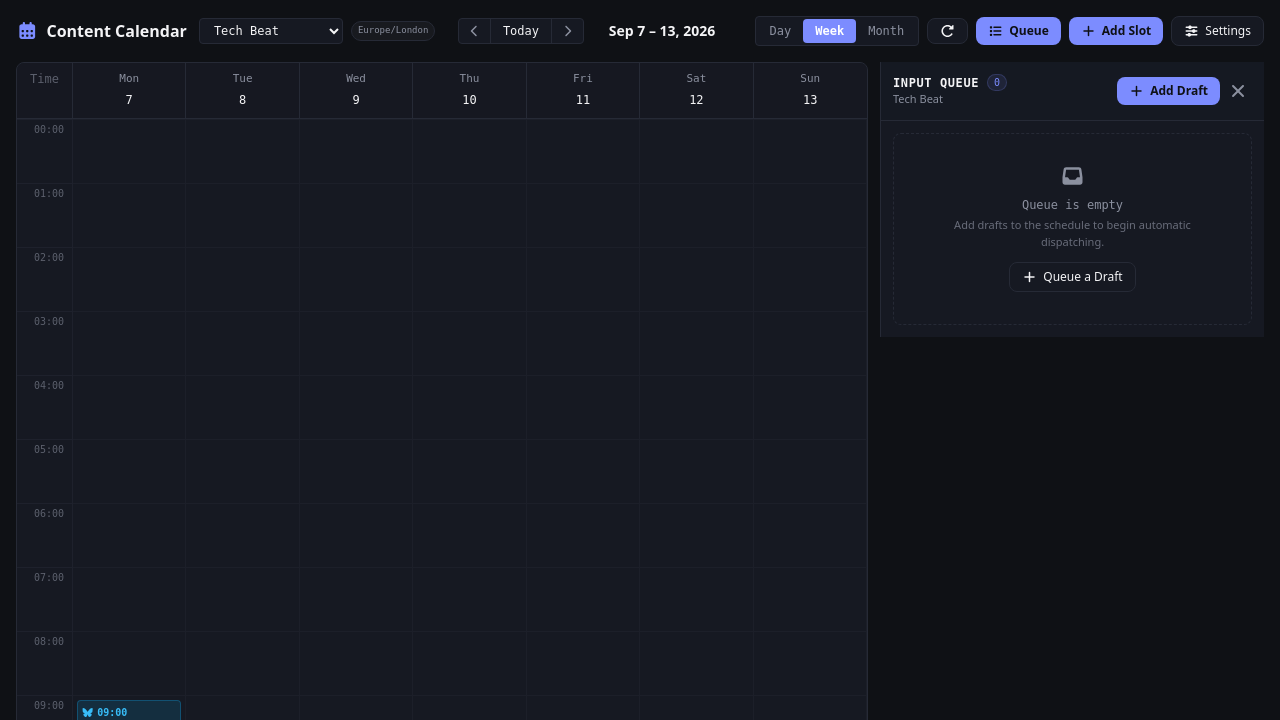
Test: CalendarPage › clicking toolbar Add Slot button opens SlotRuleFormModal
Check: the button with test id "open-schedule-manager-btn" reads "Settings", box [1171,16,1264,46]
Check: the dropdown with test id "schedule-selector" shows "Tech Beat", box [199,18,343,44]
Click the button with test id "toolbar-add-slot-btn" at (1116, 31), box [1069,17,1163,45]
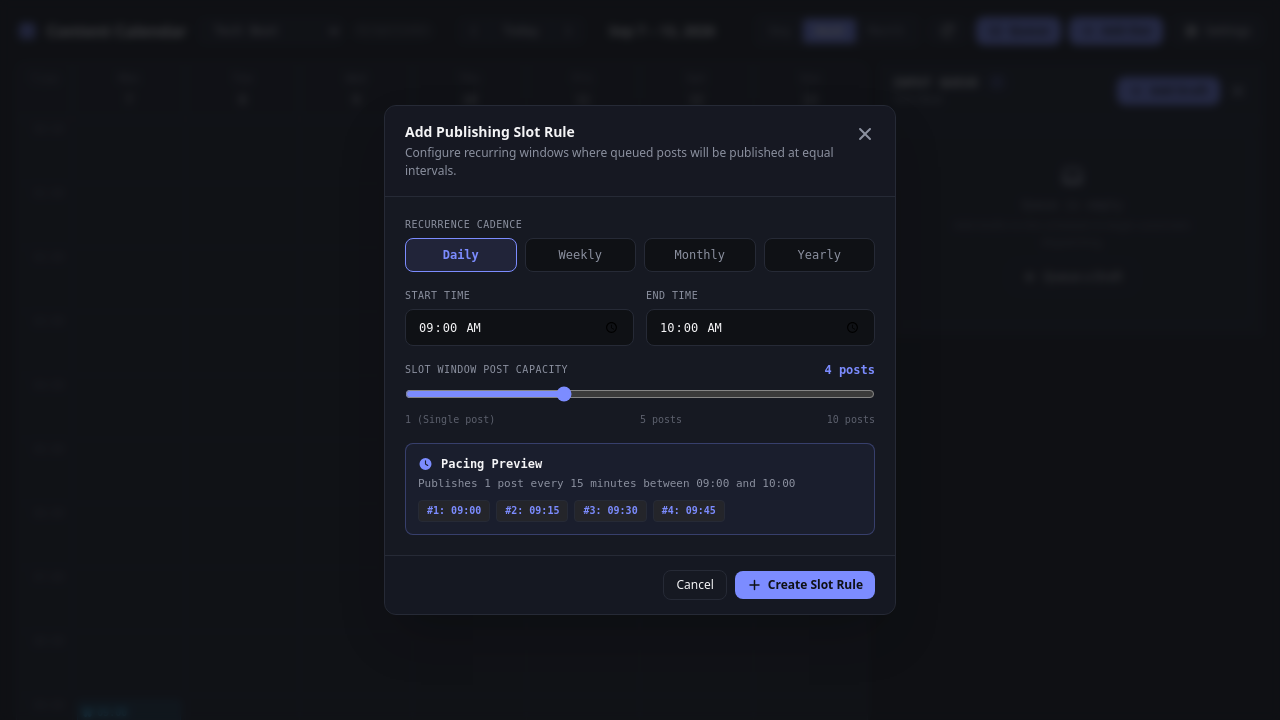
Check: the dialog with test id "slot-rule-modal" is shown, box [384,105,896,615]
Check: the heading "Add Publishing Slot Rule" is shown, box [405,122,575,141]
